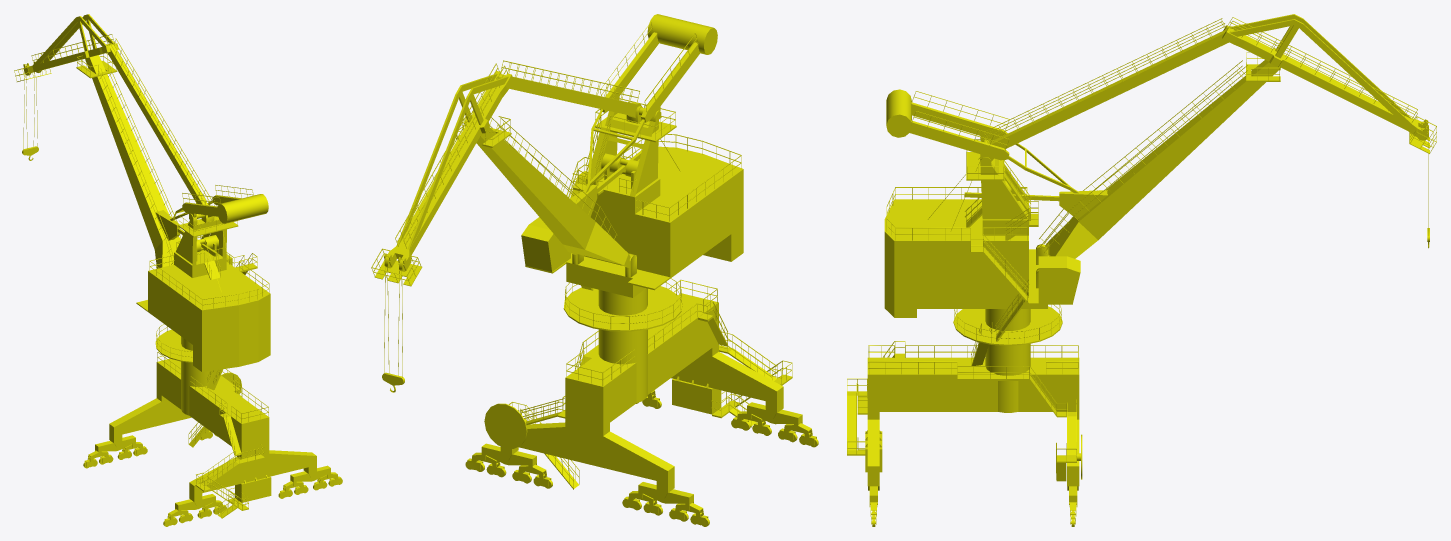
3 views of the same model, side by side, from view 1: azimuth 30°, elevation 25°; view 2: azimuth 150°, elevation 25°; view 3: azimuth 270°, elevation 25° (orthographic). The views are drawn at different scales.
Parts seen in each view (by area): view 1: PortalJibCrane; view 2: PortalJibCrane; view 3: PortalJibCrane.
Part boxes in pixels (x1,y1,x2,y2): PortalJibCrane: [14, 14, 342, 526]; PortalJibCrane: [371, 14, 818, 526]; PortalJibCrane: [847, 14, 1436, 526].
Size of the model in its own units: 20.13 by 39.53 by 46.22.
2 materials, 2 textured.
